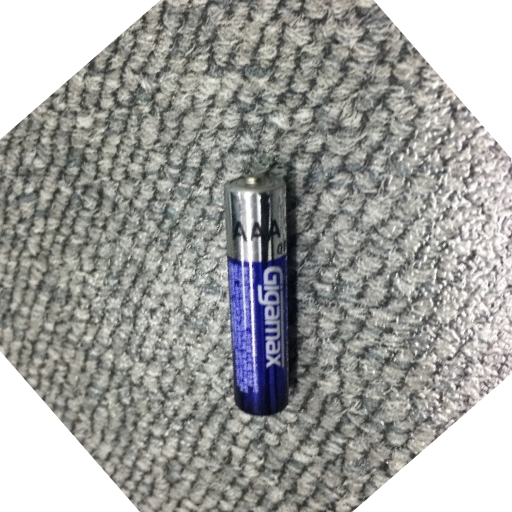Battery_0: (209, 159, 314, 424)
